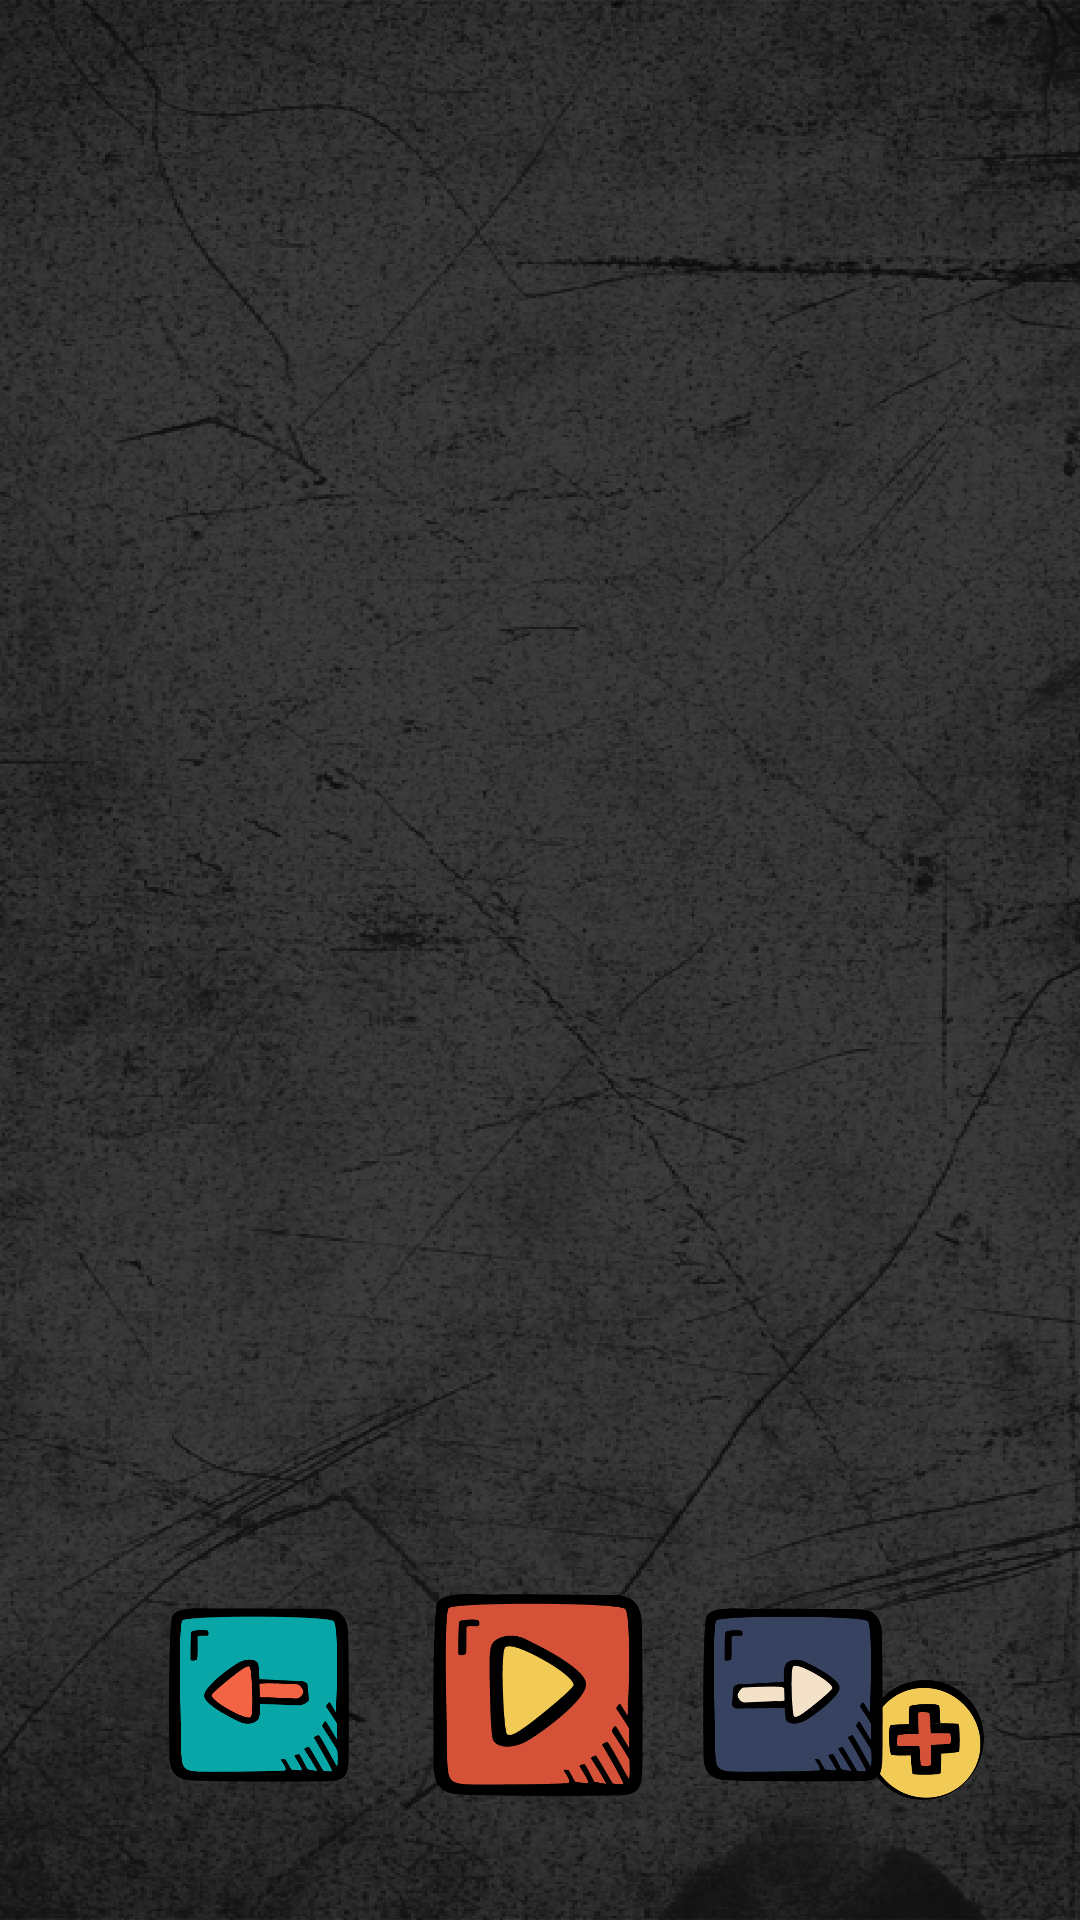

Screen size 1080 × 1920. Icon name, then its center in pixels as point (x, y):
addxhdpi: point (924, 1740)
backxhdpi: point (259, 1695)
nextxhdpi: point (793, 1694)
playxhdpi: point (538, 1695)
